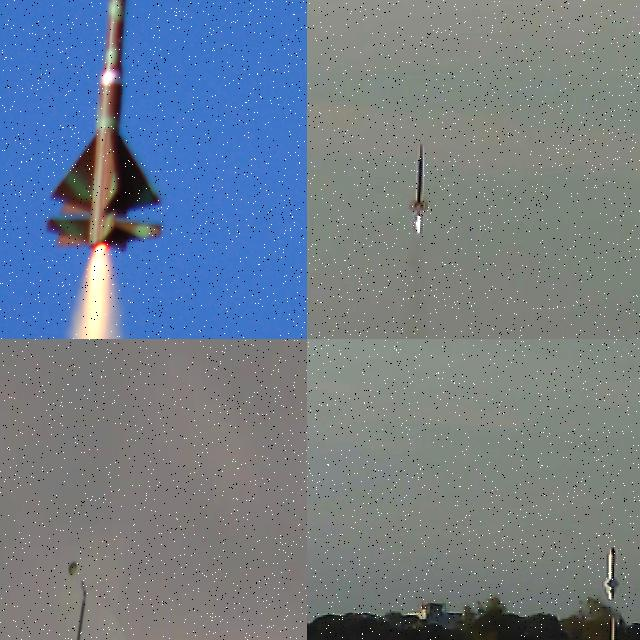Rocket: (44, 0, 165, 254), (408, 143, 428, 215), (604, 547, 620, 600)
